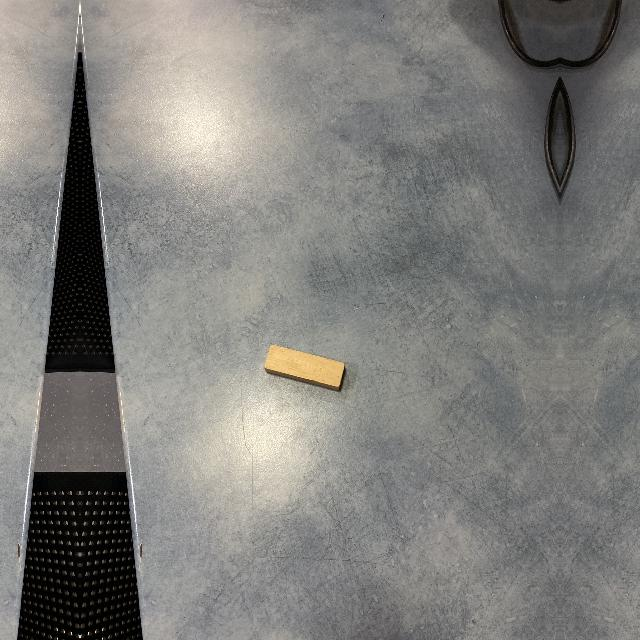jenga: (264, 345, 346, 392)
